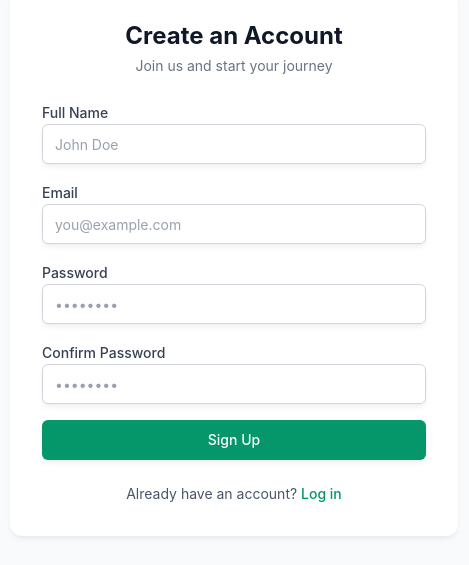
Register › shows error when passwords do not match
This screenshot has width=469, height=565.
Step 1. Type "John" into the field labelled "Full Name" → (234, 144), box [42,124,426,164]
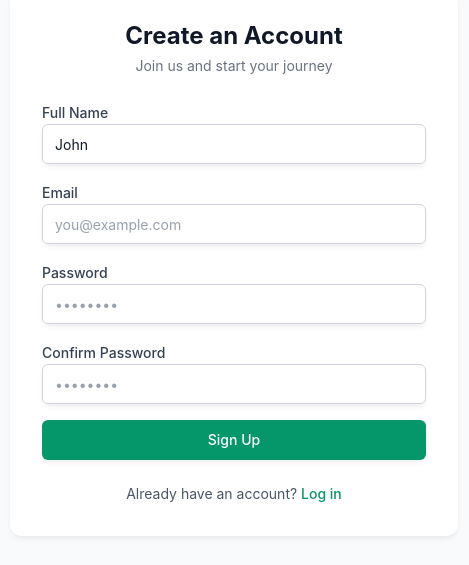
Step 2. Type "user@example.com" into the field labelled "Email" → (234, 224), box [42,204,426,244]
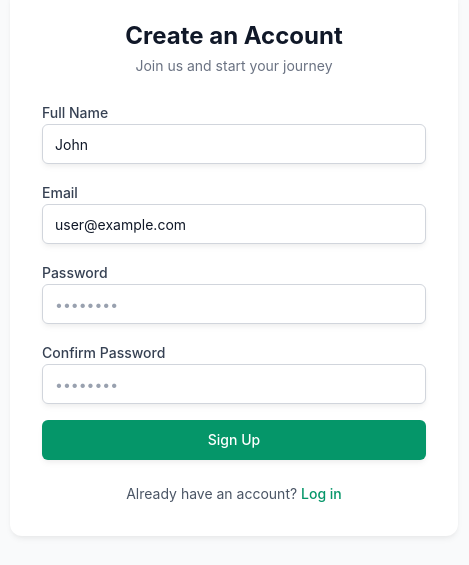
Step 3. Type "password123" into the password field labelled "Password" → (234, 304), box [42,284,426,324]
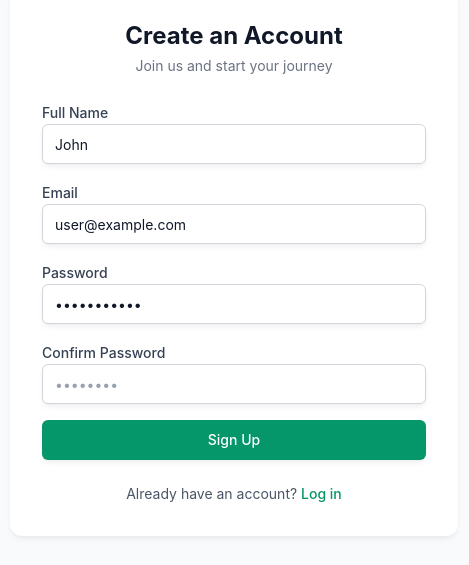
Step 4. Type "different123" into the password field labelled "Confirm Password" → (234, 384), box [42,364,426,404]
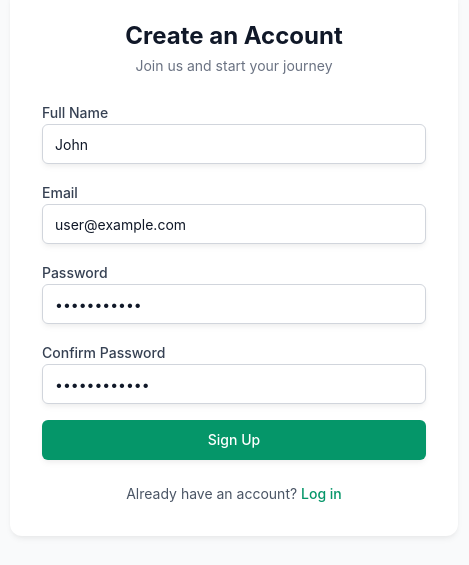
Step 5. Submit the form "Full Name Email Password Confirm Password Sign Up", box [42,100,426,460]
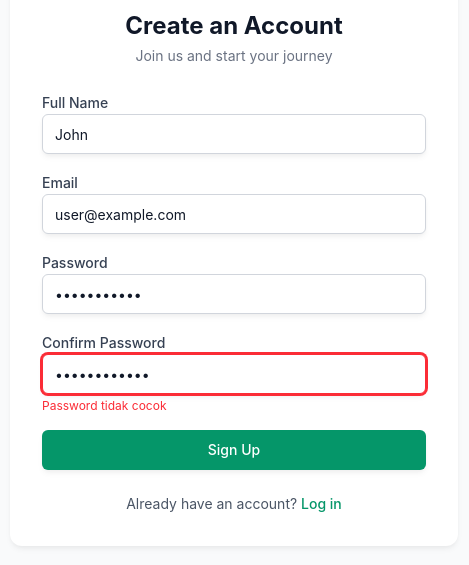
expect the text "Password tidak cocok" is shown: met, box [42,398,166,413]
